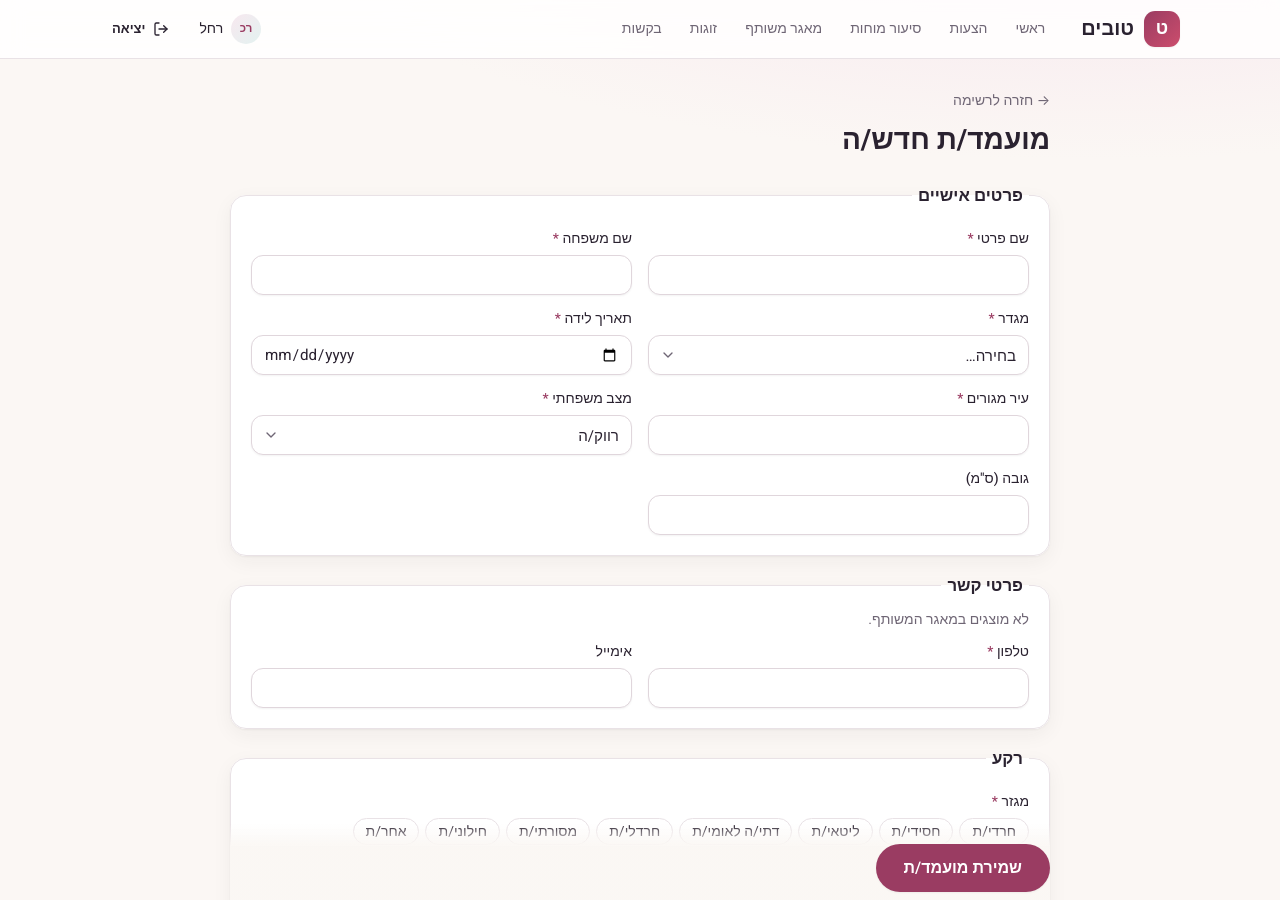
Scenario: new single form › marks missing required fields and sends nothing
Click the button "שמירת מועמד/ת": (963,868) [876,844,1050,892]
(page scrolled)
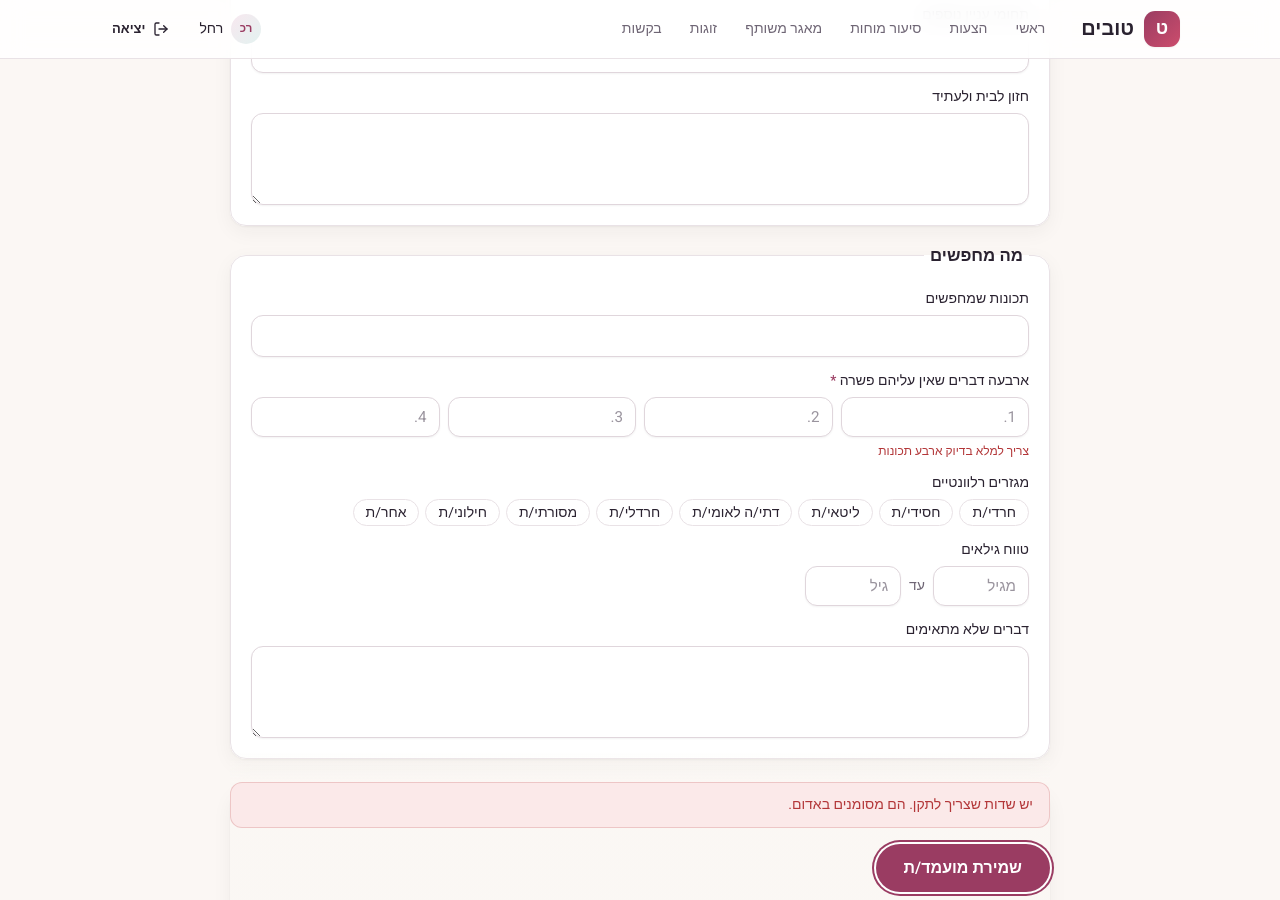
Result: the text "יש שדות שצריך לתקן. הם מסומנים באדום." is shown at [788,795,1033,815]
Result: the text "צריך למלא בדיוק ארבע תכונות" is shown at [878,442,1029,460]
